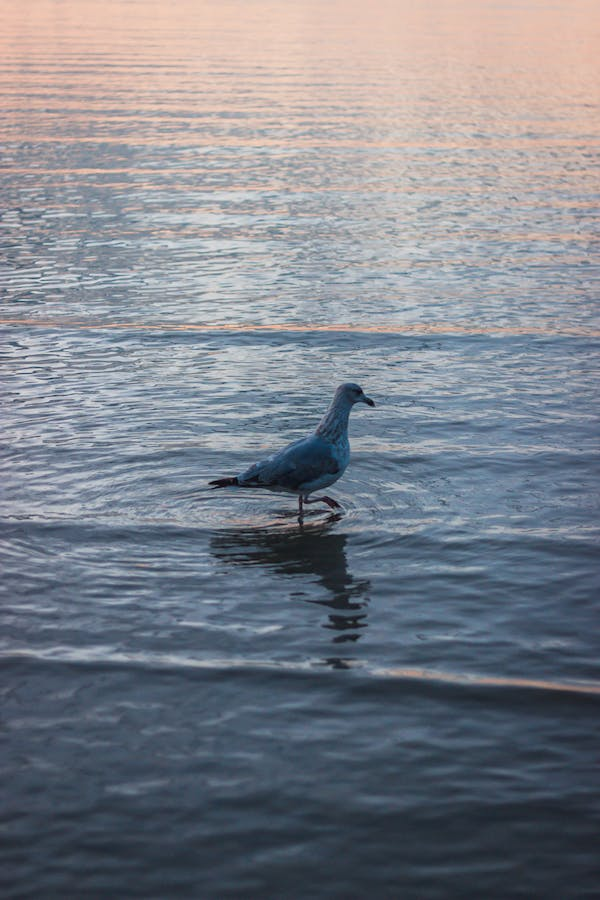Walking: (202, 352, 389, 561)
